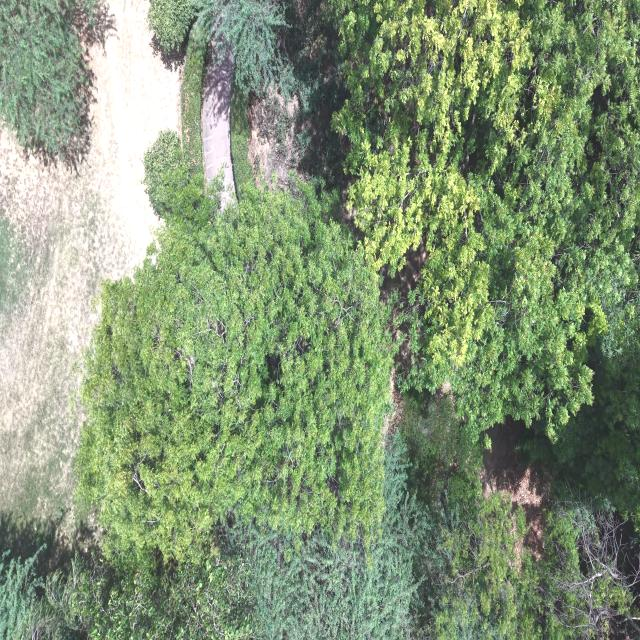DRY_AREA: (0, 0, 179, 535), (480, 418, 550, 558), (248, 89, 301, 189), (202, 51, 235, 205)
VEGETATION_TREE: (0, 0, 639, 639), (335, 1, 639, 437), (0, 434, 639, 639), (78, 175, 391, 559), (221, 435, 639, 639), (401, 421, 639, 639), (226, 436, 424, 639), (414, 470, 639, 639), (400, 395, 548, 639), (0, 545, 252, 639), (231, 2, 347, 190), (415, 471, 542, 639), (524, 345, 639, 521), (0, 0, 112, 169), (75, 546, 252, 639), (532, 499, 639, 639), (148, 0, 295, 96), (286, 1, 348, 190), (199, 0, 294, 96), (0, 544, 88, 639), (0, 544, 84, 639), (400, 391, 481, 485), (22, 555, 90, 639), (143, 130, 201, 217), (181, 22, 207, 177), (0, 549, 43, 639), (229, 82, 255, 198), (0, 218, 28, 318), (148, 0, 196, 49)
